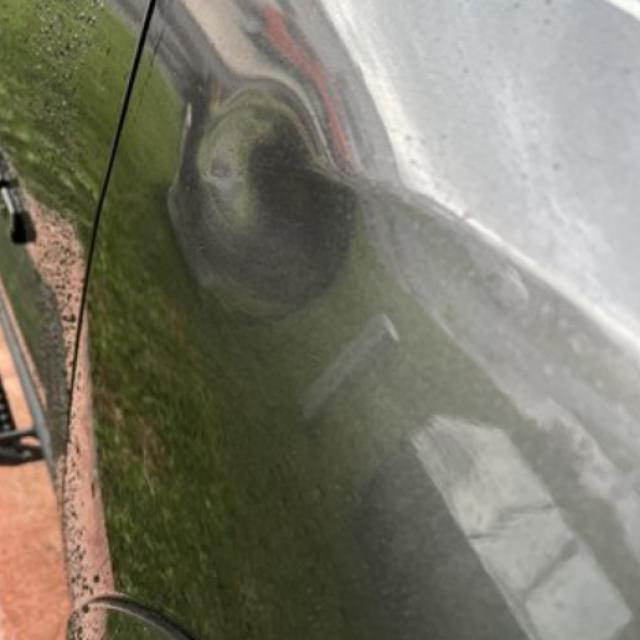dents: (156, 68, 385, 316)
